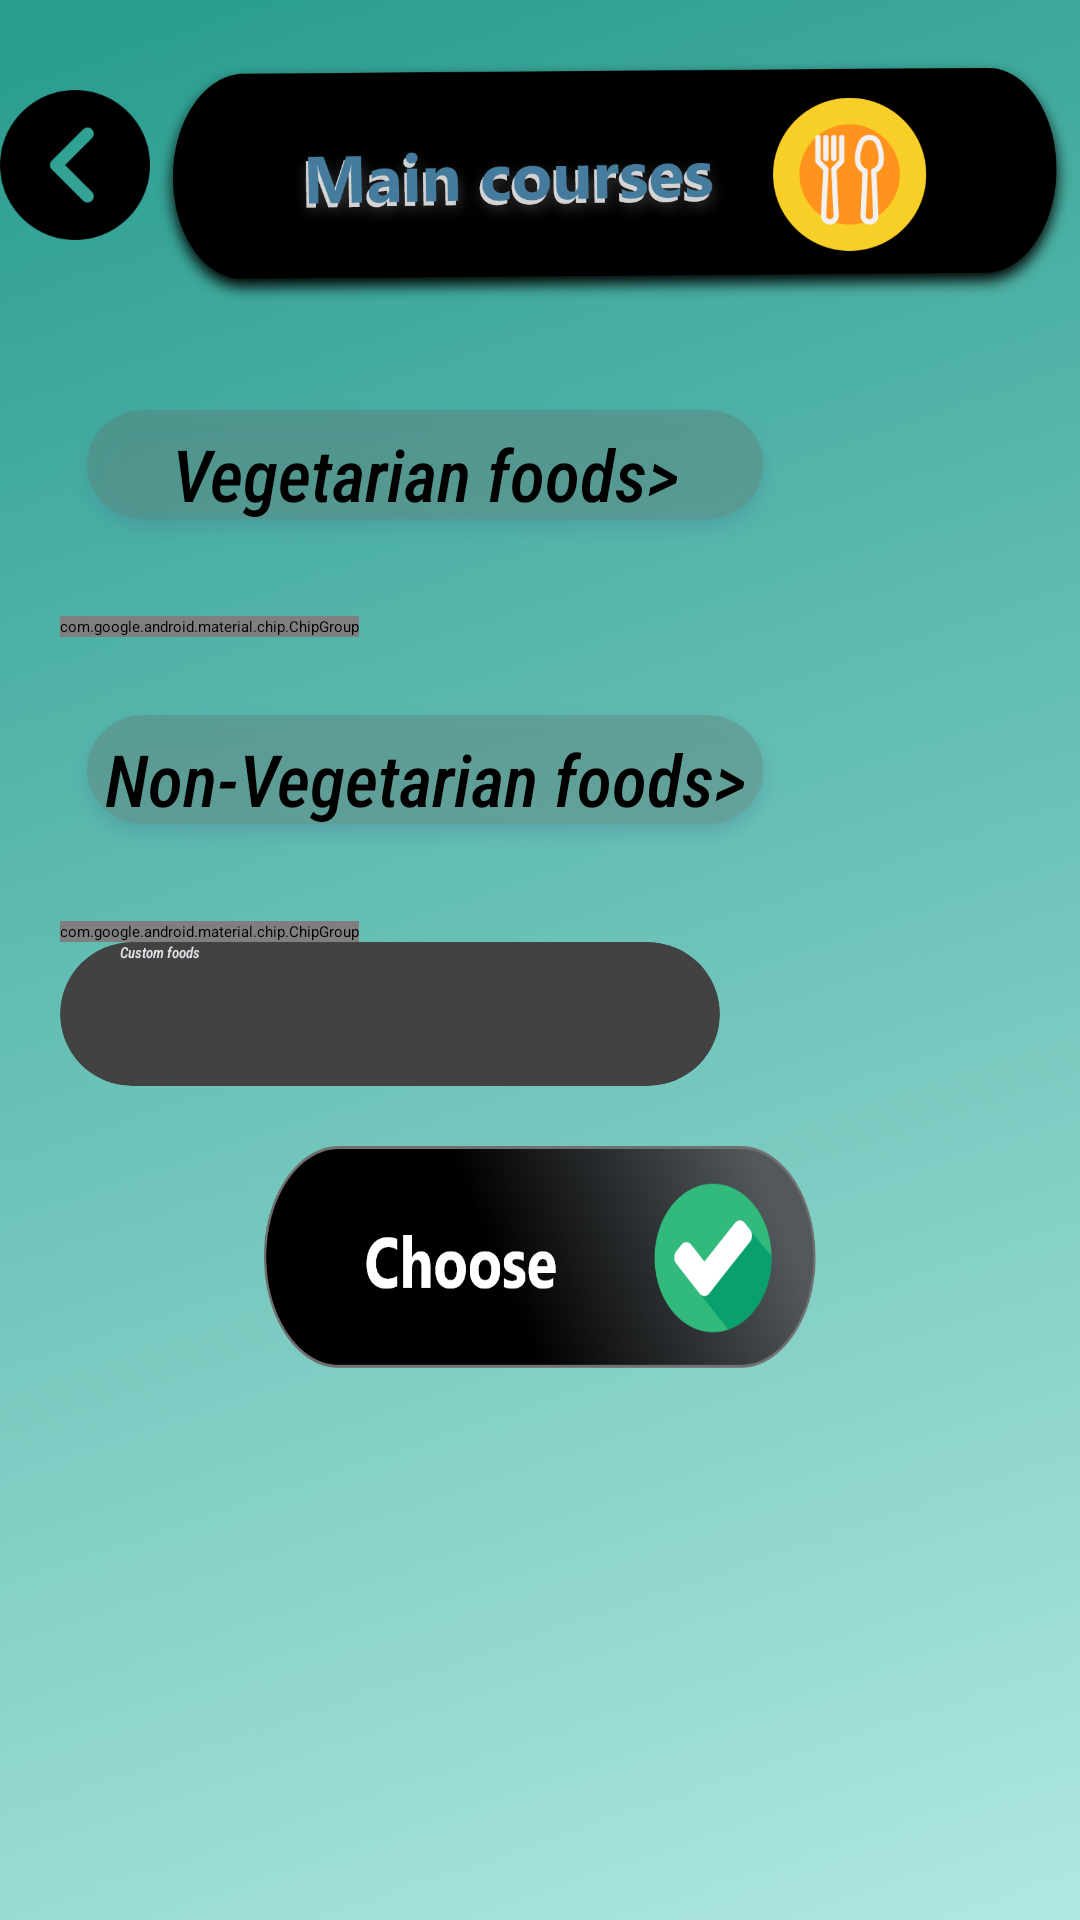

Icons on this 1080px×1920px Android screen, each with the point to tap as point (x, y):
previous: point (75, 165)
